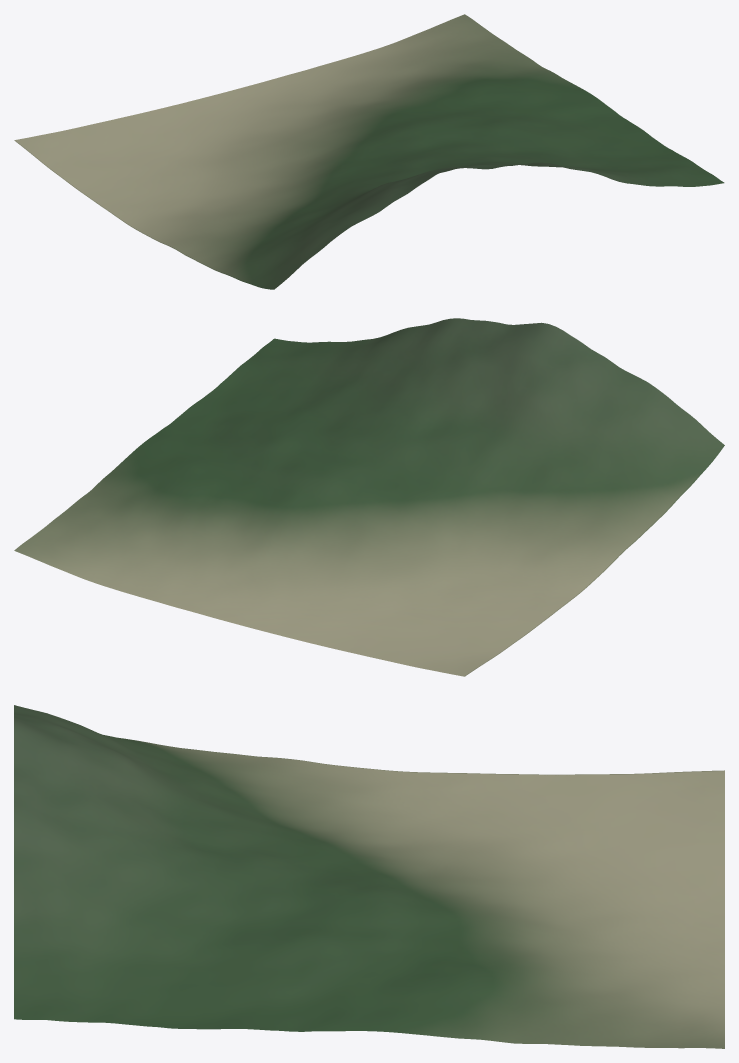
Rendered from chunk_1_0.obj.
3 views of the same model, one above another, from view 1: azimuth 30°, elevation 25°; view 2: azimuth 150°, elevation 25°; view 3: azimuth 270°, elevation 25° (orthographic). The views are drawn at different scales.
Visible parts, largest first — view 1: chunk_1_0.obj; view 2: chunk_1_0.obj; view 3: chunk_1_0.obj.
Boxes of the visible parts, x1=… form: chunk_1_0.obj: x1=14, y1=14, x2=724, y2=289; chunk_1_0.obj: x1=14, y1=318, x2=724, y2=676; chunk_1_0.obj: x1=14, y1=705, x2=724, y2=1048.
Bounding box in the file's own units: 64 × 16.75 × 64.
Materials: 1 (1 with a texture image).
